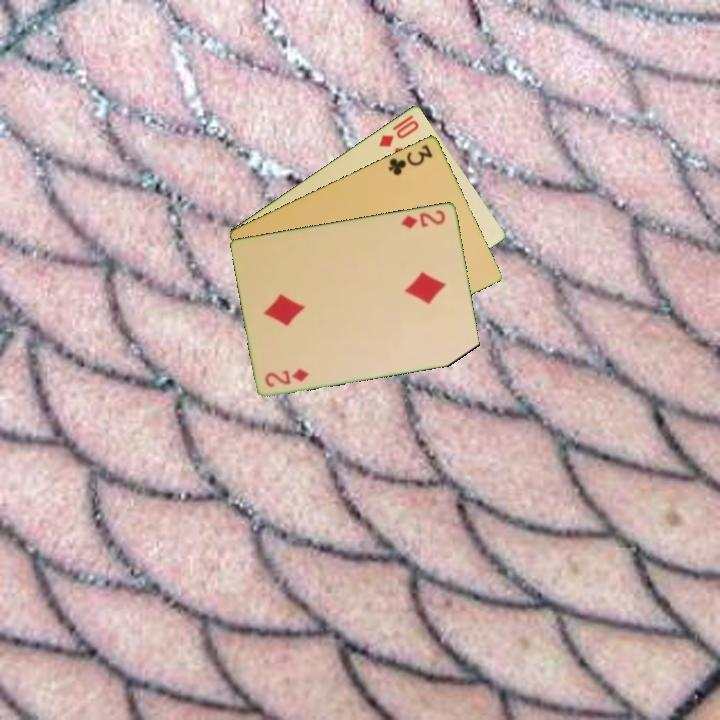10d: (375, 116, 422, 150)
2d: (398, 206, 449, 231), (262, 365, 312, 390)
3c: (384, 141, 436, 178)
